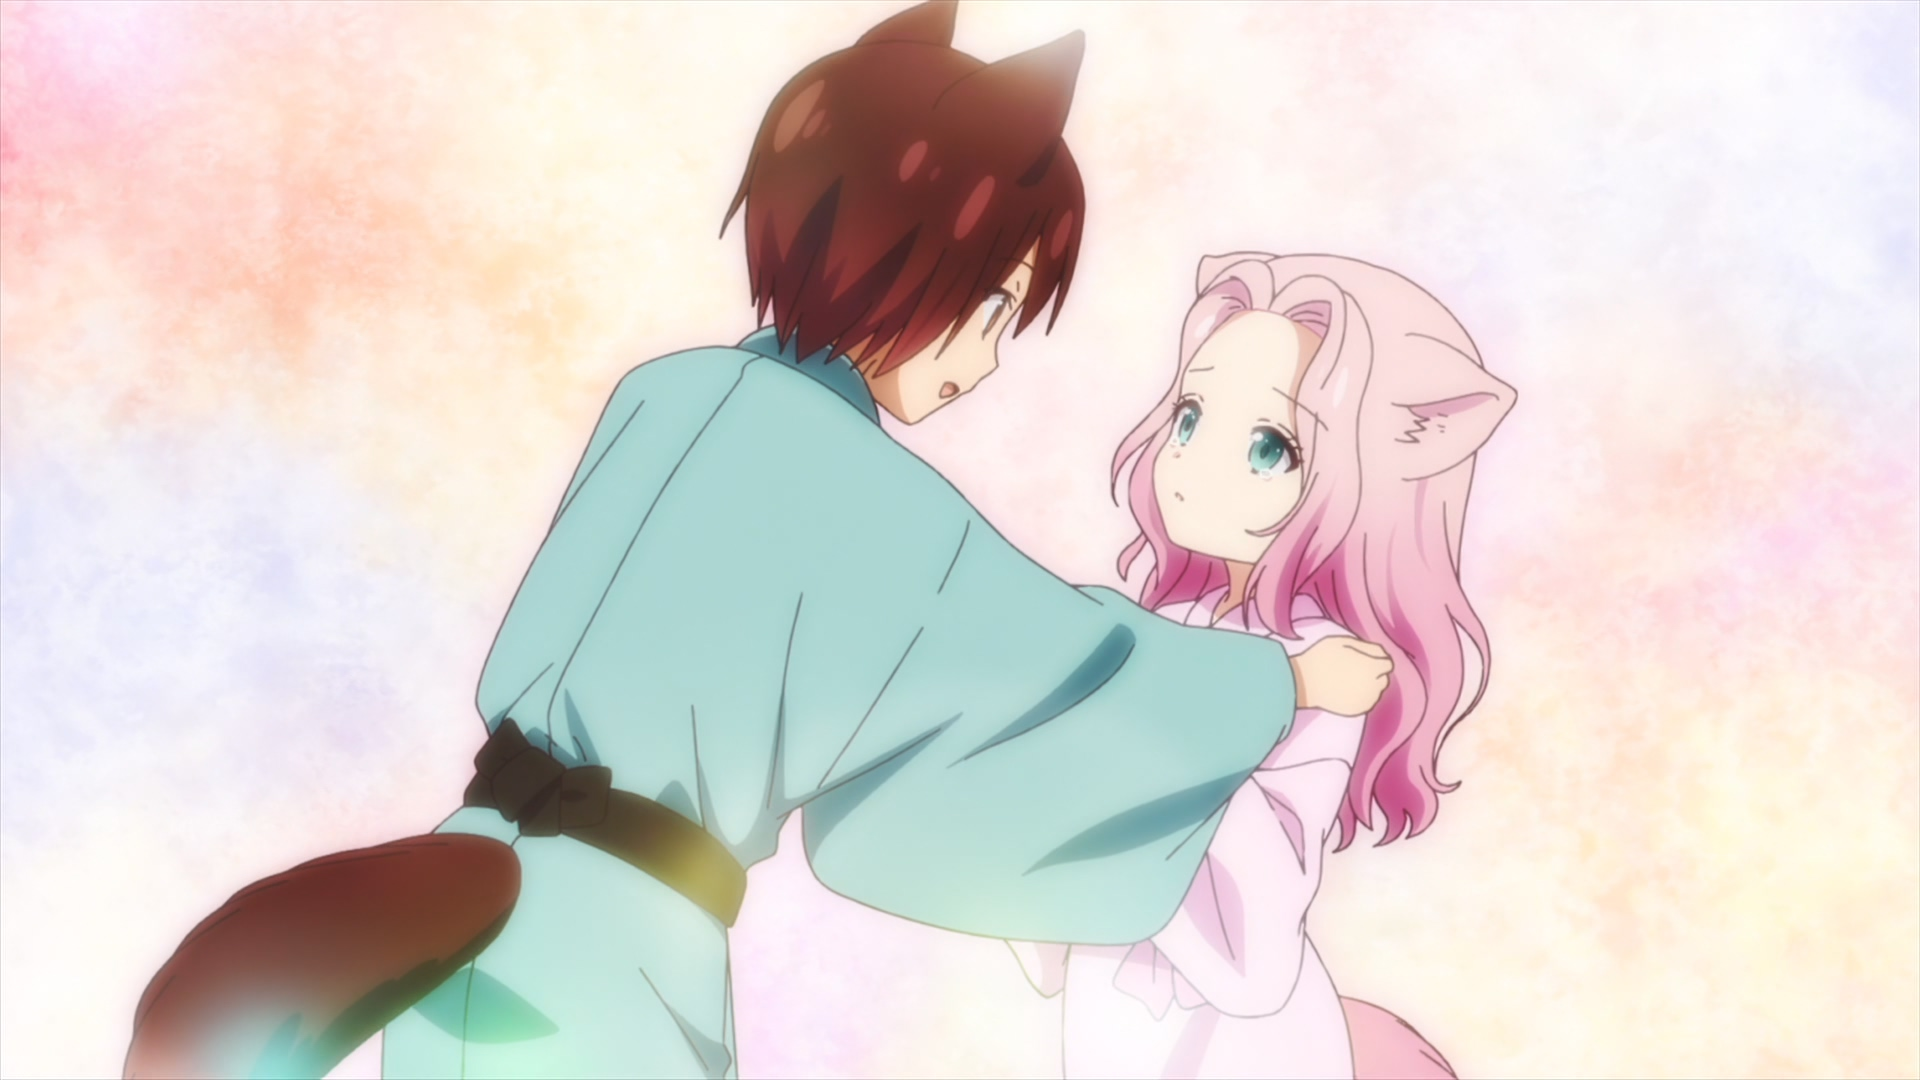枣: (121, 1, 1393, 1080)
莲: (1013, 251, 1520, 1080)
